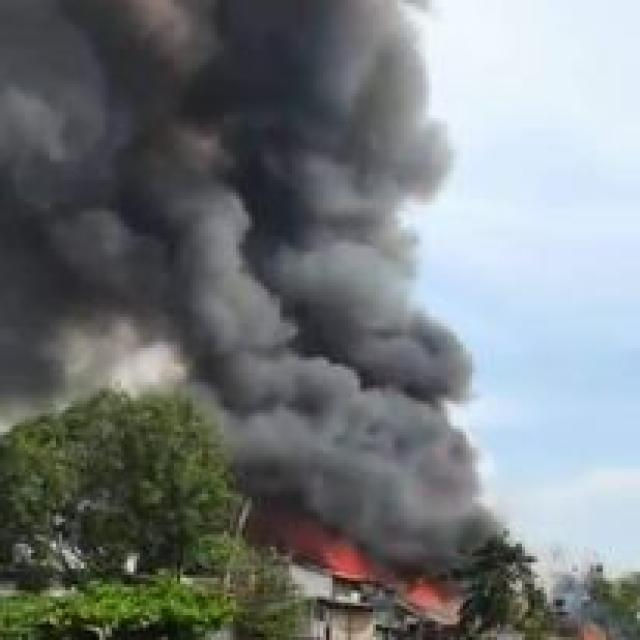Fire: (287, 519, 413, 574), (402, 564, 444, 612)
Smoke: (0, 0, 472, 402), (236, 393, 514, 538)
